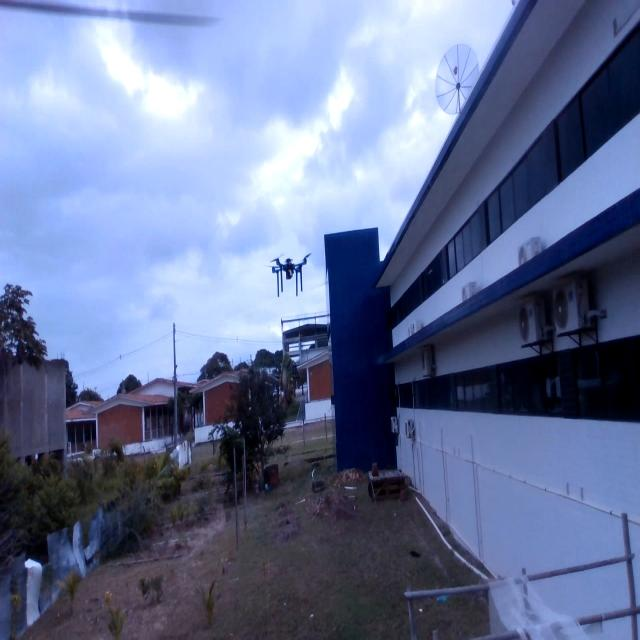-uav-: (263, 239, 315, 305)
